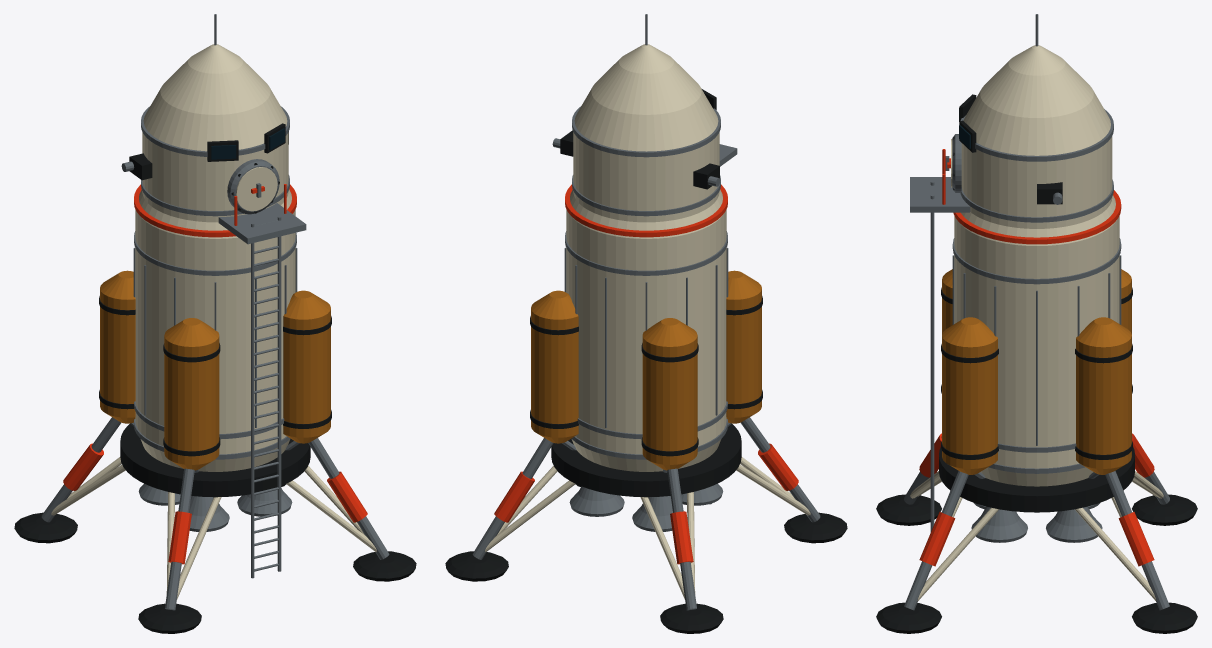
The model's file is mav.glb.
The picture shows the model from 3 angles, left to right: view 1: azimuth 30°, elevation 25°; view 2: azimuth 150°, elevation 25°; view 3: azimuth 270°, elevation 25°; orthographic projection. The views are drawn at different scales.
Visible parts, largest first — view 1: MAV — Mars ascent vehicle; view 2: MAV — Mars ascent vehicle; view 3: MAV — Mars ascent vehicle.
Part boxes in pixels (<box>): MAV — Mars ascent vehicle: <box>14,14,416,633</box>; MAV — Mars ascent vehicle: <box>445,14,847,633</box>; MAV — Mars ascent vehicle: <box>876,14,1197,633</box>.
Bounding box in the file's own units: 6.23 × 11.8 × 6.23.
